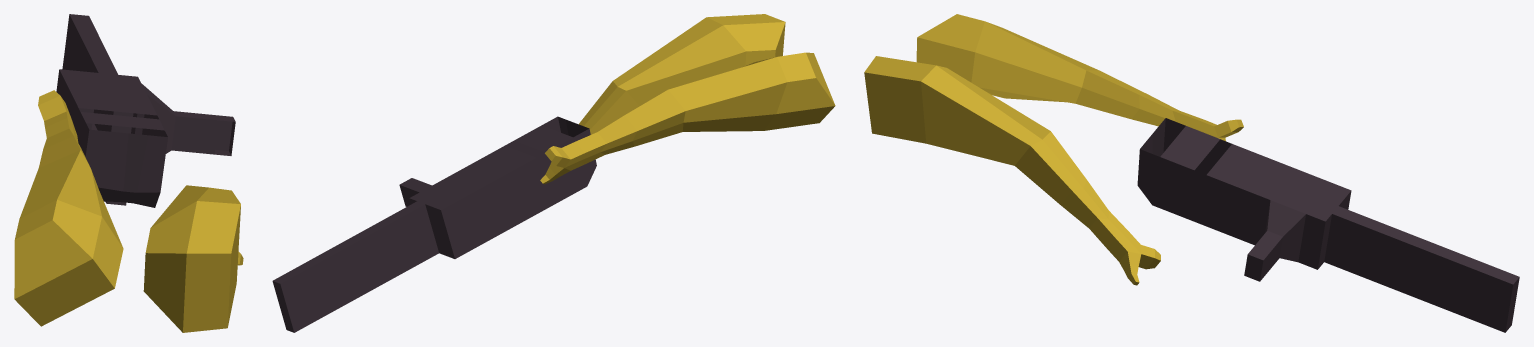
The model's file is arme_000024.obj.
3 views of the same model, side by side, from view 1: azimuth 30°, elevation 25°; view 2: azimuth 150°, elevation 25°; view 3: azimuth 270°, elevation 25° (orthographic). The views are drawn at different scales.
Visible parts, largest first — view 1: Cube.048_Cube.024, Cube.046_Cube.010; view 2: Cube.048_Cube.024, Cube.046_Cube.010; view 3: Cube.048_Cube.024, Cube.046_Cube.010.
Part boxes in pixels (<box>): Cube.048_Cube.024: <box>14,90,243,332</box>; Cube.046_Cube.010: <box>56,14,235,207</box>; Cube.048_Cube.024: <box>540,14,835,184</box>; Cube.046_Cube.010: <box>272,116,596,332</box>; Cube.048_Cube.024: <box>864,14,1243,285</box>; Cube.046_Cube.010: <box>1137,118,1519,332</box>.
Size of the model in its own units: 1397 by 698 by 2352.
